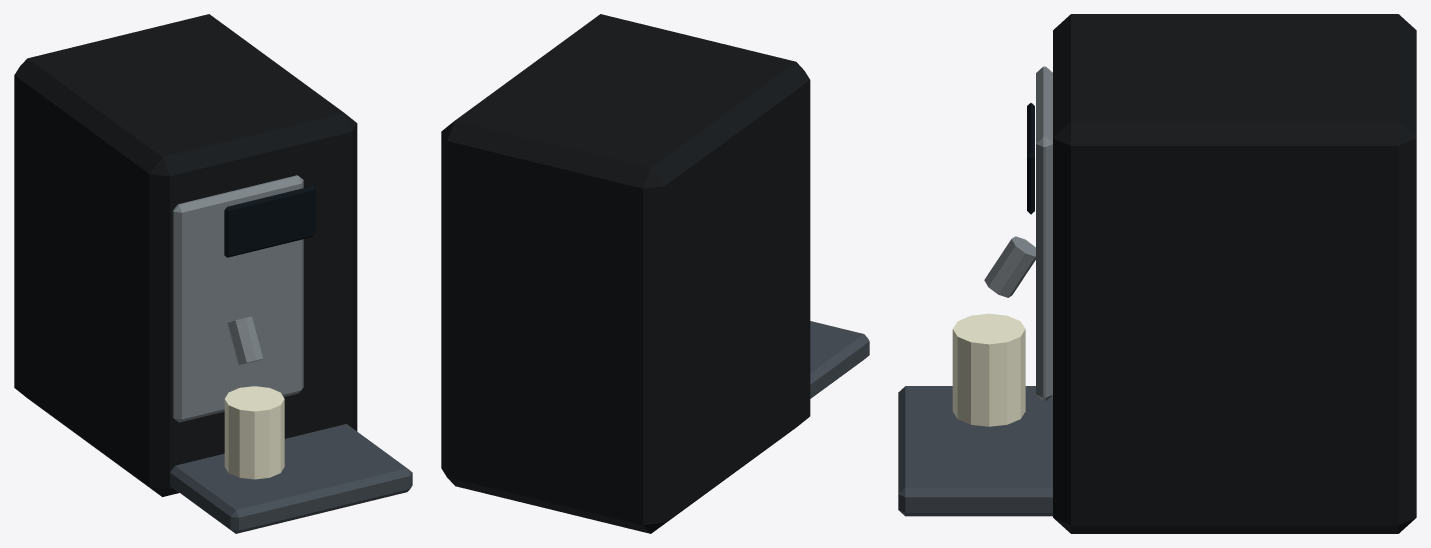
The model's file is CounterCoffeeMachine.fbx.
The picture shows the model from 3 angles, left to right: view 1: azimuth 30°, elevation 25°; view 2: azimuth 150°, elevation 25°; view 3: azimuth 270°, elevation 25°; orthographic projection. The views are drawn at different scales.
Parts seen in each view (by area): view 1: CounterCoffeeMachine; view 2: CounterCoffeeMachine; view 3: CounterCoffeeMachine.
Boxes of the visible parts, left/top/right/bottom form: CounterCoffeeMachine: left=14, top=14, right=412, bottom=533; CounterCoffeeMachine: left=441, top=14, right=869, bottom=533; CounterCoffeeMachine: left=898, top=14, right=1416, bottom=533.
Size of the model in its own units: 32 by 50 by 57.
1 material, 1 textured.
